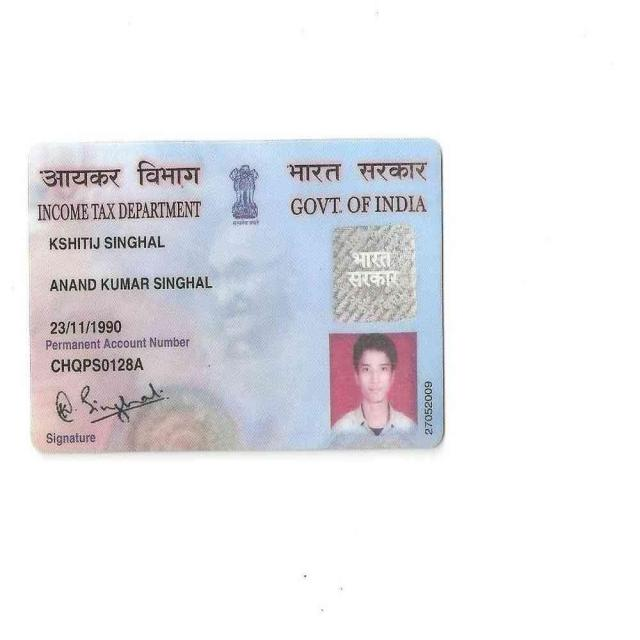pan_card: (30, 142, 441, 450)
